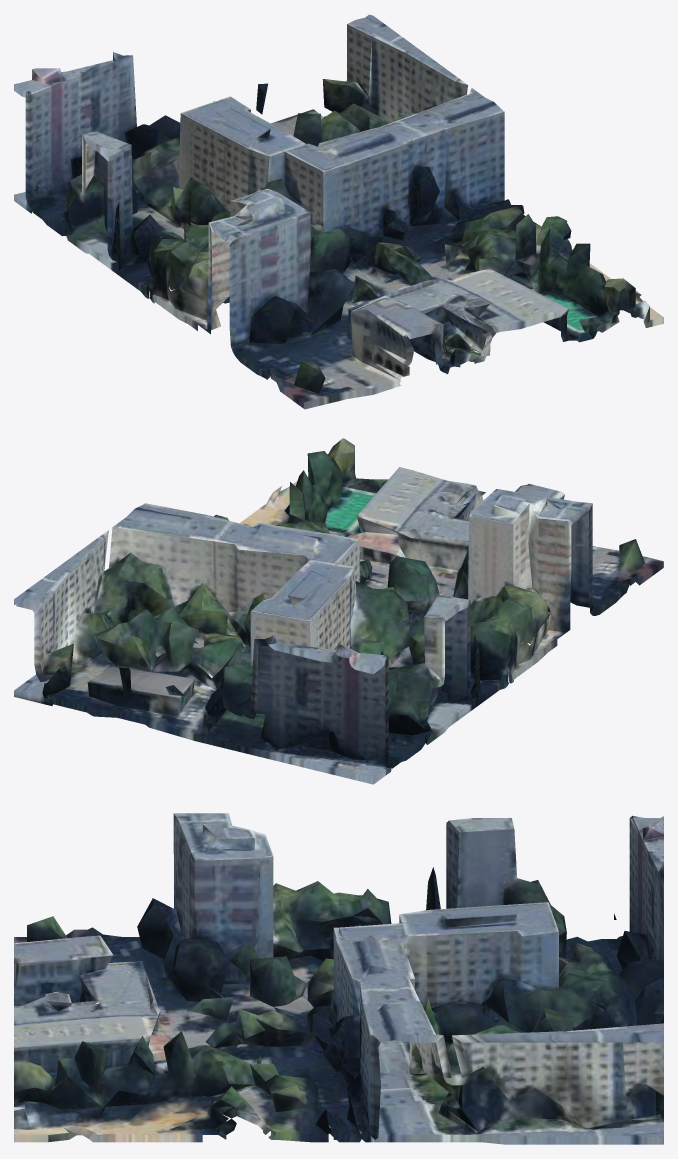
3 views of the same model, one above another, from view 1: azimuth 30°, elevation 25°; view 2: azimuth 150°, elevation 25°; view 3: azimuth 270°, elevation 25° (orthographic). The views are drawn at different scales.
Parts seen in each view (by area): view 1: 304362727043706154_0; view 2: 304362727043706154_0; view 3: 304362727043706154_0.
Boxes of the visible parts, box(x1,y1,x2,y2) form: 304362727043706154_0: box(14, 14, 663, 409); 304362727043706154_0: box(14, 438, 663, 784); 304362727043706154_0: box(14, 813, 663, 1144).
Size of the model in its own units: 109 by 38.22 by 153.
Materials: 1 (1 with a texture image).
